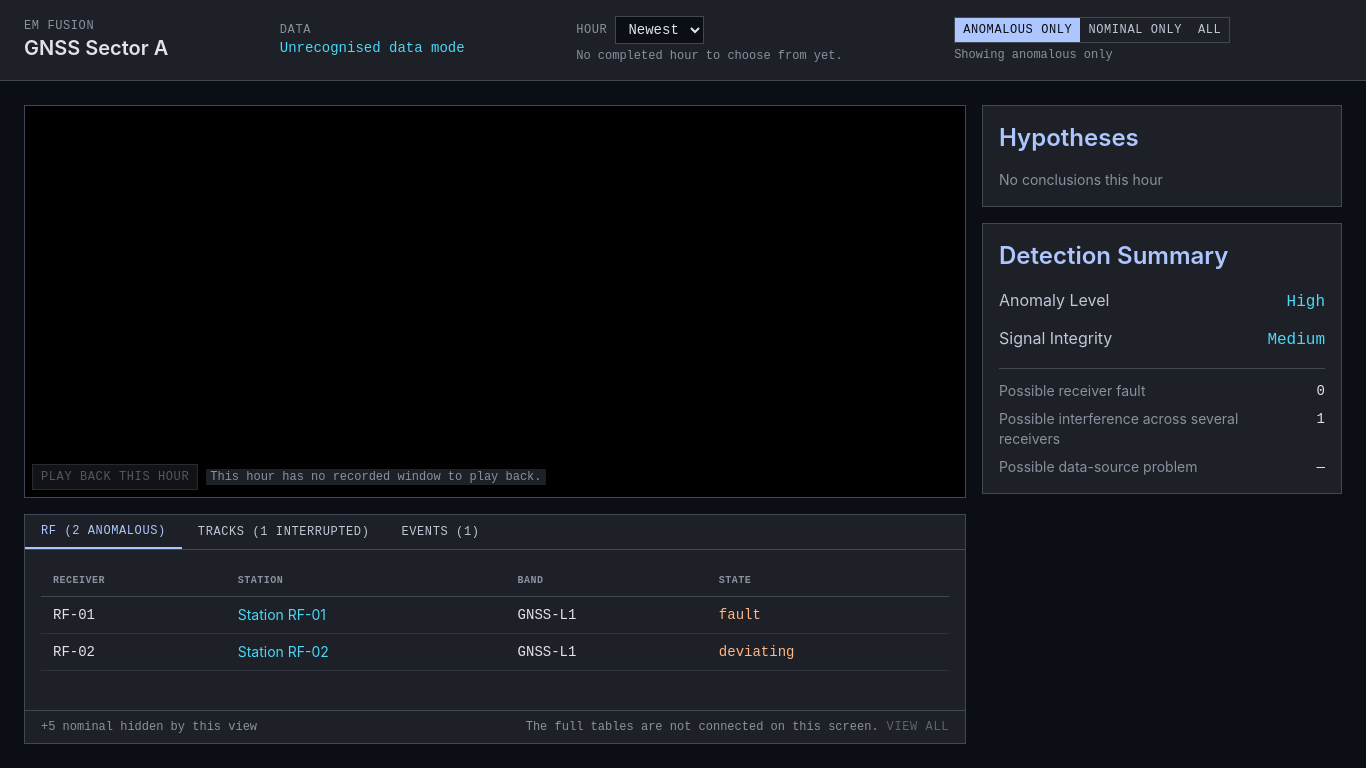
the tab labels › count exactly the rows beneath them
Expected: the number of rows is 3, [41,566,949,597]; [41,597,949,634]; [41,634,949,671]
Click the tab "Tracks (1 interrupted)". click: (284, 532)
box: [182,515,385,549]
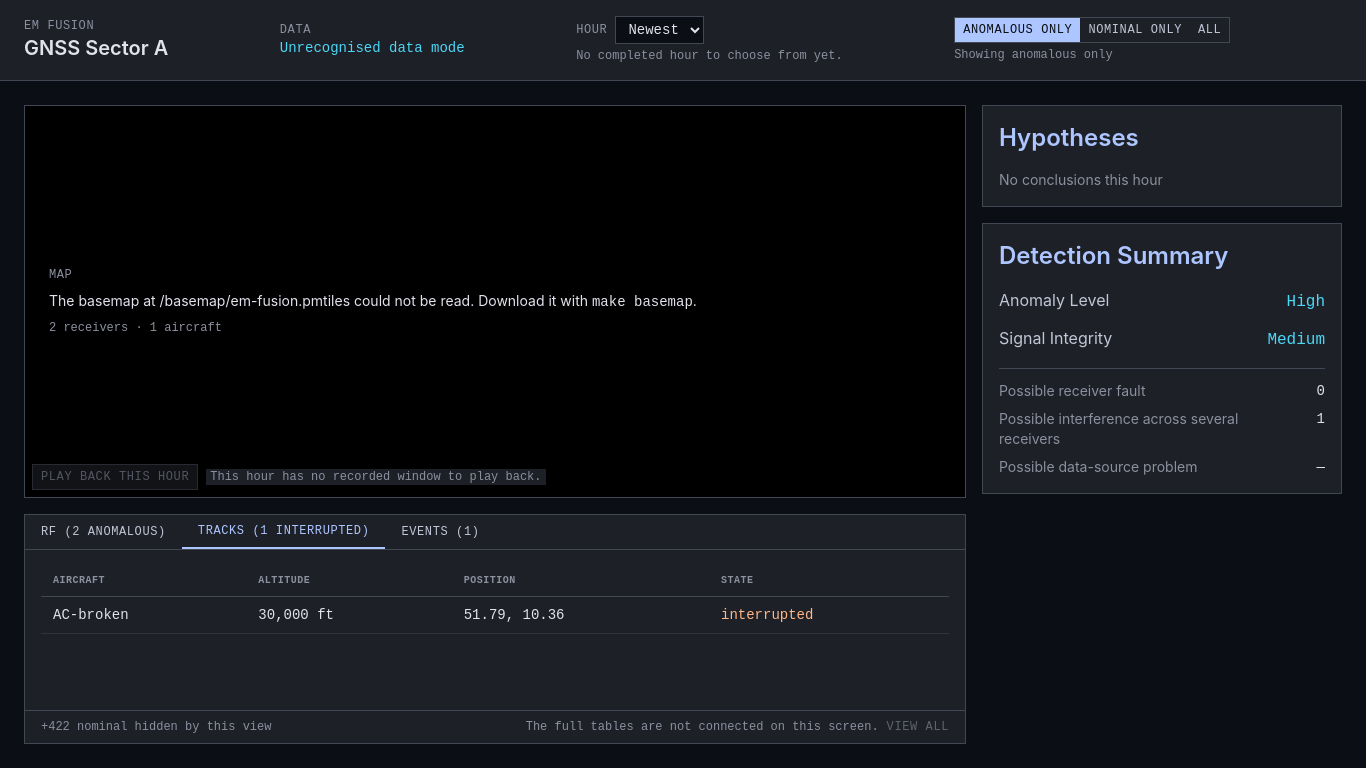
Now the number of rows is 2, box [41,566,949,597]; [41,597,949,634]
